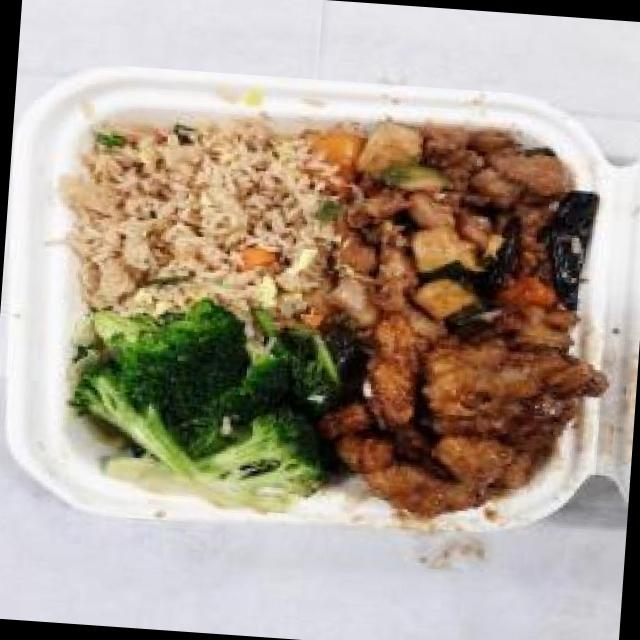Fried Rice: (45, 101, 357, 336)
Kung Pao Chicken: (311, 112, 609, 359)
Super Greens: (47, 286, 356, 520)
The Original Orange Chicken: (301, 294, 618, 536)
